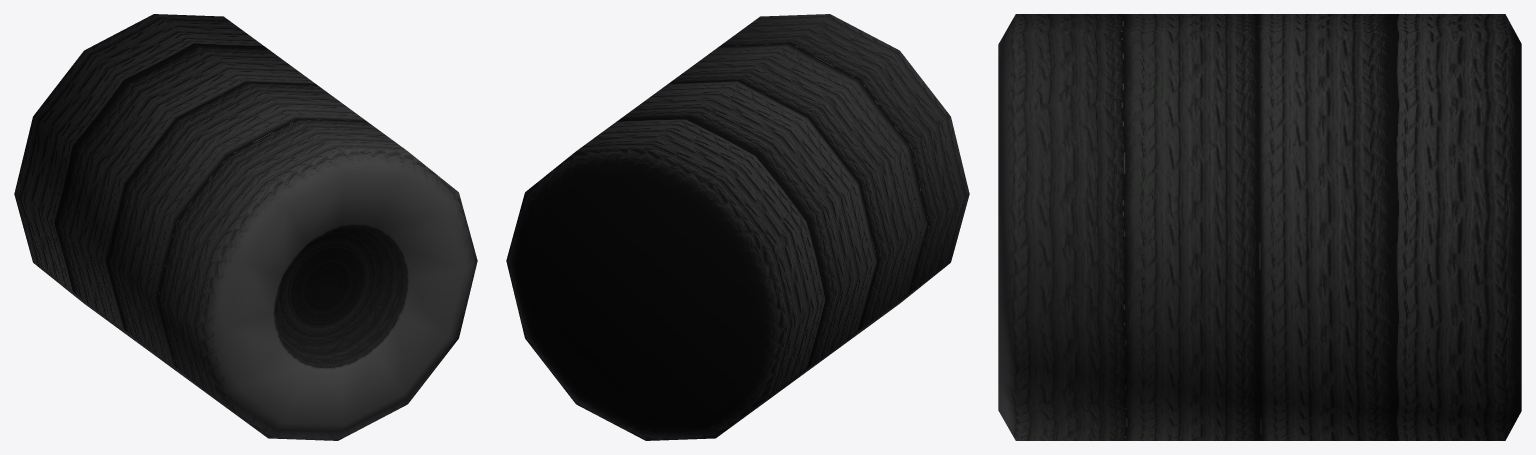
Rendered from TireWall_Single.obj.
3 views of the same model, side by side, from view 1: azimuth 30°, elevation 25°; view 2: azimuth 150°, elevation 25°; view 3: azimuth 270°, elevation 25° (orthographic). The views are drawn at different scales.
Visible parts, largest first — view 1: TireWall_Single; view 2: TireWall_Single; view 3: TireWall_Single.
Part boxes in pixels (x1,y1,x2,y2): TireWall_Single: [14, 14, 477, 440]; TireWall_Single: [506, 14, 969, 440]; TireWall_Single: [998, 14, 1521, 440].
Size of the model in its own units: 0.6743 by 0.6742 by 0.8237.
Materials: 1 (1 with a texture image).
